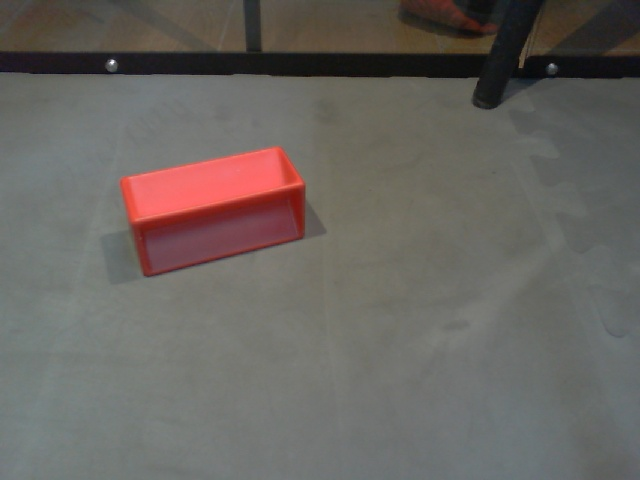RedSample: (118, 142, 308, 280)
